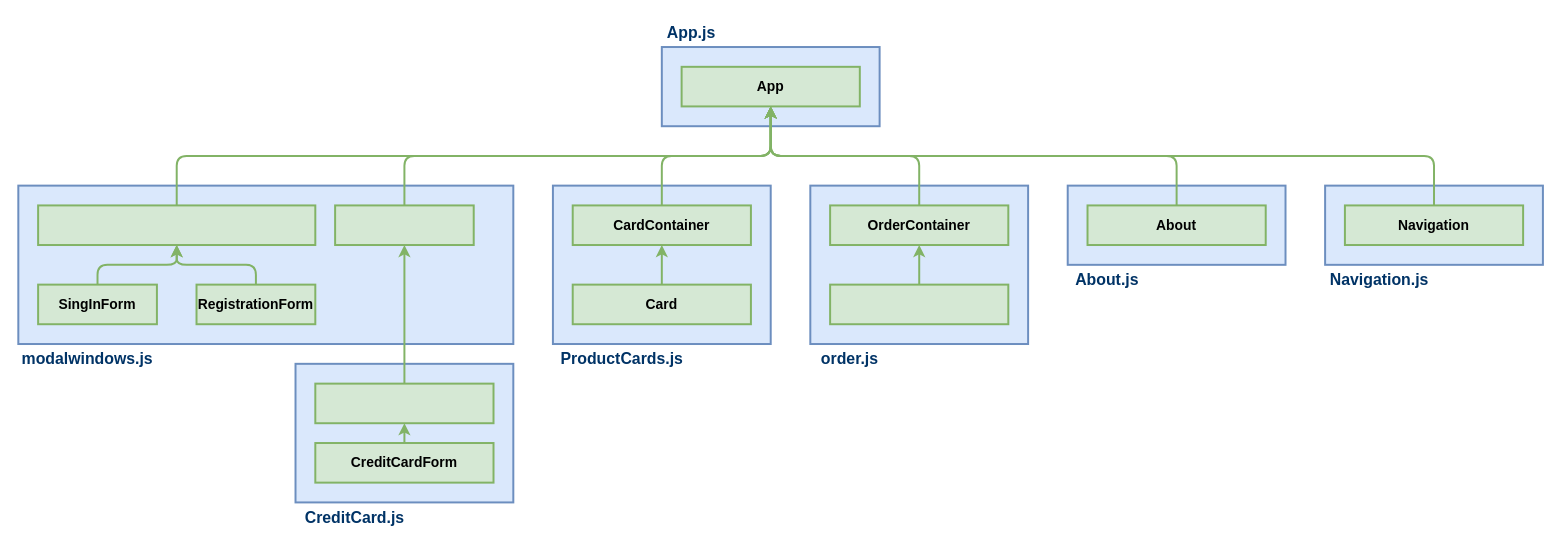
Some shapes in this 1560 by 548 pixel diagram are drawn without their labels. The centre of each missing label's shape, as x and y in pixels:
"BuyModalWindow" goes at (x=404, y=225).
"CreditCardInformation" goes at (x=404, y=403).
"Order" goes at (x=919, y=304).
"SignInModalWindow" goes at (x=176, y=225).
